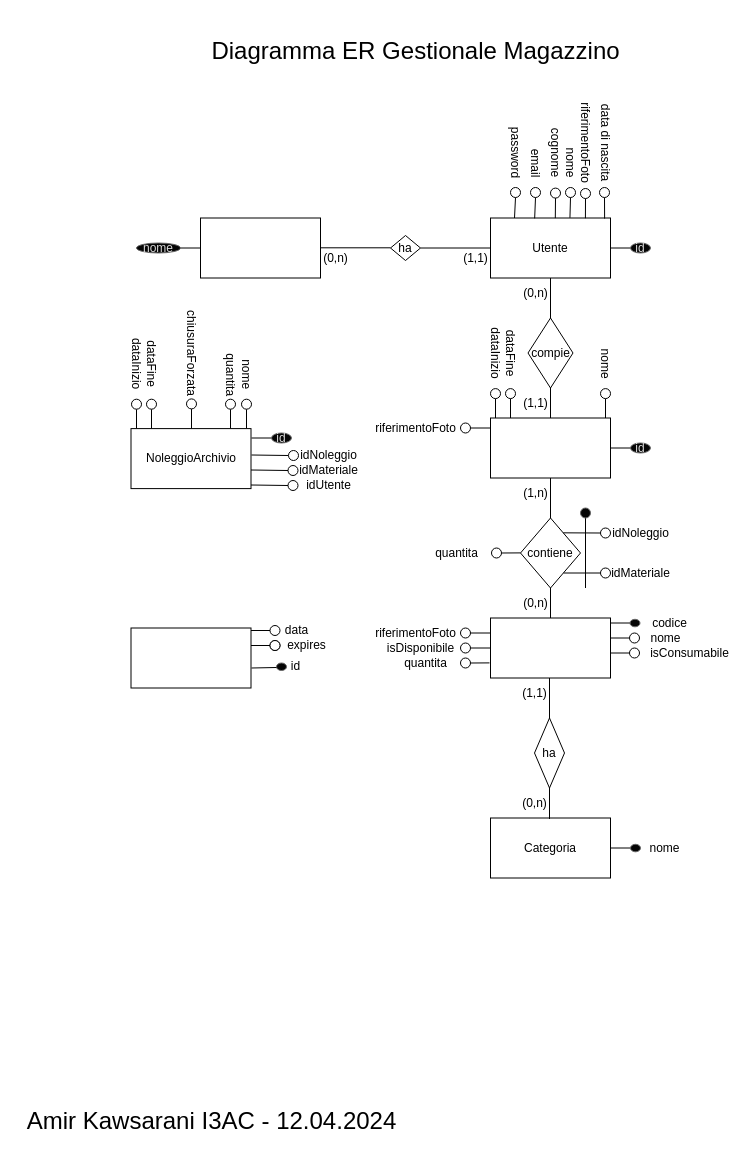
Some shapes in this 756 by 1171 pixel diagram are drawn without their labels. Here are the shapes that lost their labels. From the top down, the centre of each, then its label:
(x=260, y=247): Ruolo
(x=550, y=447): Noleggio
(x=190, y=657): Sessions
(x=550, y=647): Materiale
